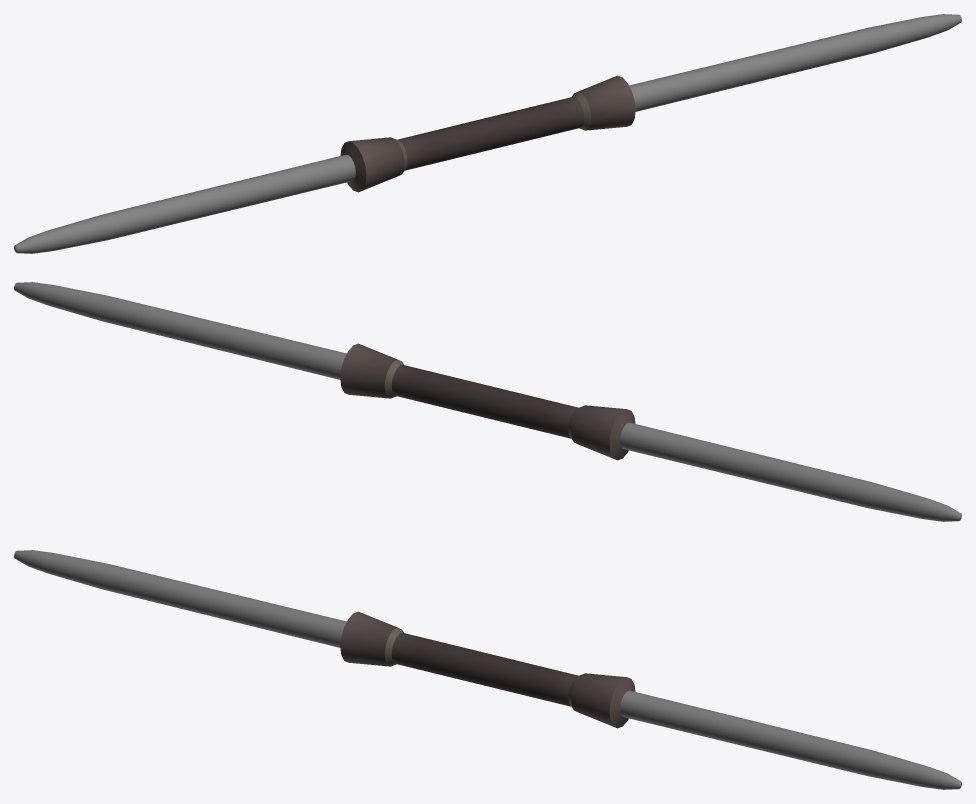
The model's file is weapon_lazer.fbx.
3 renders of one model, top to bottom at view 1: azimuth 30°, elevation 25°; view 2: azimuth 150°, elevation 25°; view 3: azimuth 330°, elevation 25°, orthographic.
Parts seen in each view (by area): view 1: Weapon_Lazer; view 2: Weapon_Lazer; view 3: Weapon_Lazer.
Part boxes in pixels (x1=…): Weapon_Lazer: x1=14, y1=14, x2=961, y2=253; Weapon_Lazer: x1=14, y1=282, x2=961, y2=521; Weapon_Lazer: x1=14, y1=550, x2=961, y2=789.
Size of the model in its own units: 62.39 by 2.99 by 2.99.
